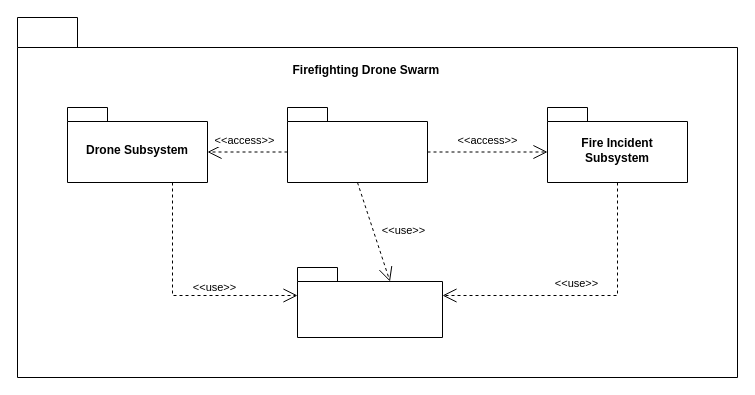
Some shapes in this 755 by 395 pixel diagram are drawn without their labels. The shapes that lost their labels are listed below. From the top down, each one's centre as x and y in pixels, then its label:
point (357, 144): Scheduler
point (369, 302): Map
